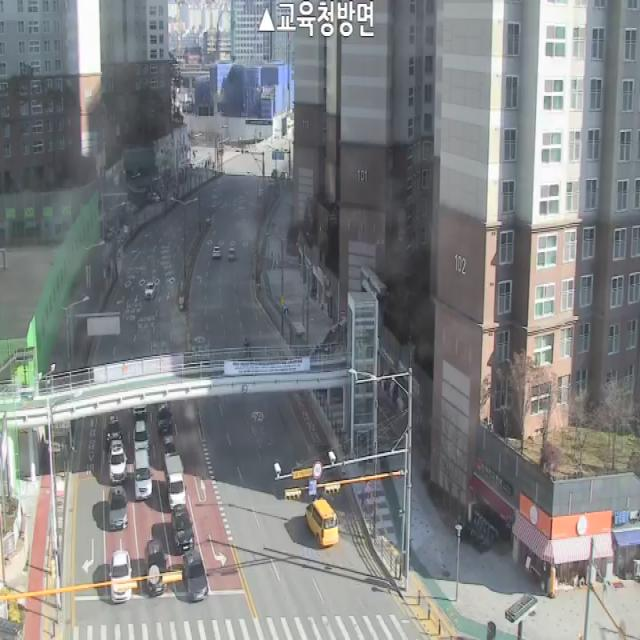Car: (306, 499, 338, 546), (109, 550, 133, 604), (184, 550, 208, 602), (146, 539, 166, 597), (172, 504, 194, 554), (134, 449, 152, 502), (108, 439, 128, 484), (109, 486, 128, 531), (156, 402, 172, 436), (133, 421, 150, 451), (106, 415, 121, 445), (163, 434, 174, 458), (132, 403, 148, 419), (145, 283, 155, 300), (228, 247, 235, 261), (213, 246, 220, 259)
Truck: (164, 454, 187, 510)
